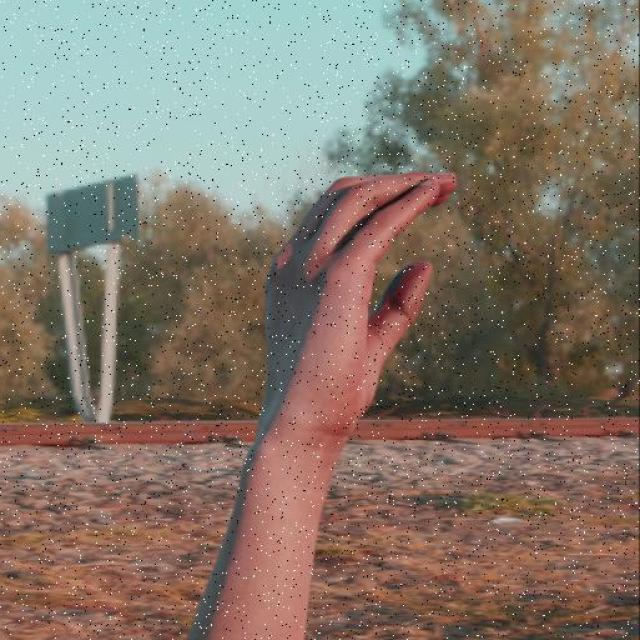C: (260, 166, 464, 459)
